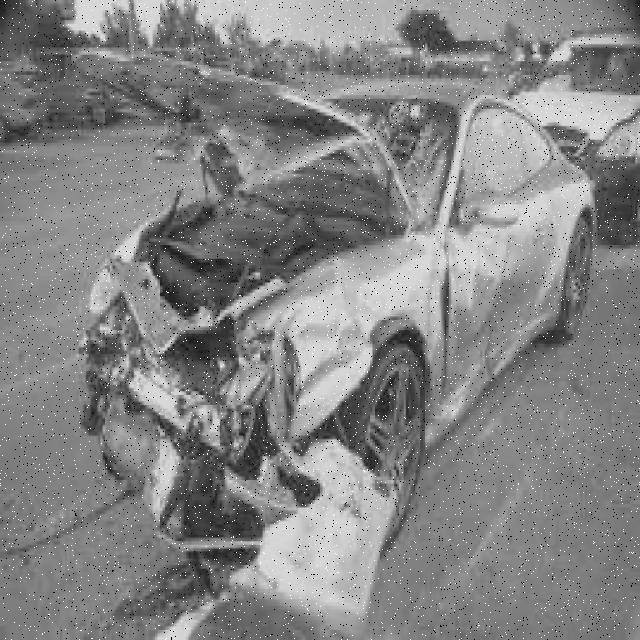car damage: (70, 150, 566, 637)
